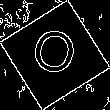O_S: (29, 26, 81, 84)
